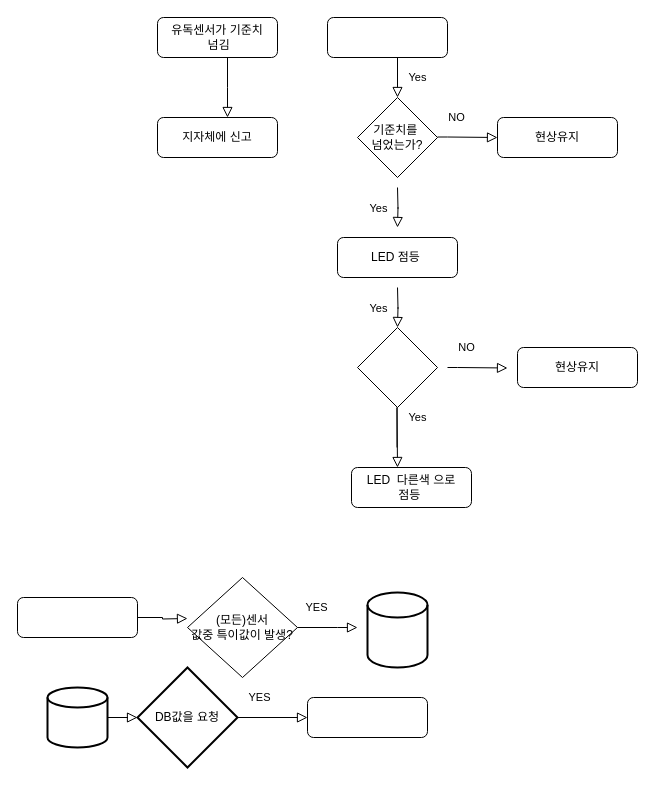
This 655x786 diagram has some shape labels left out. The shapes that lost their labels are listed below. From the top down, each one's centre as x and y in pixels, then its label:
At pixel 387 37: "센서 감지".
At pixel 397 367: "기준치를 두배 넘었는가?".
At pixel 77 617: "한시간 마다 측정".
At pixel 397 629: "저장".
At pixel 367 717: "값을 보여줌".
